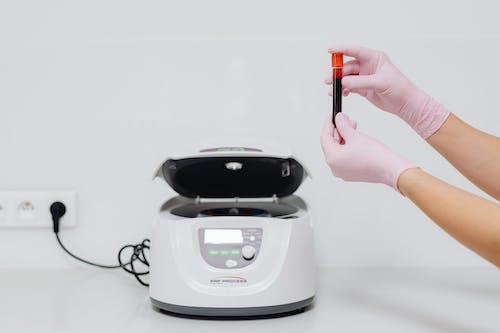blood: (331, 67, 343, 128)
